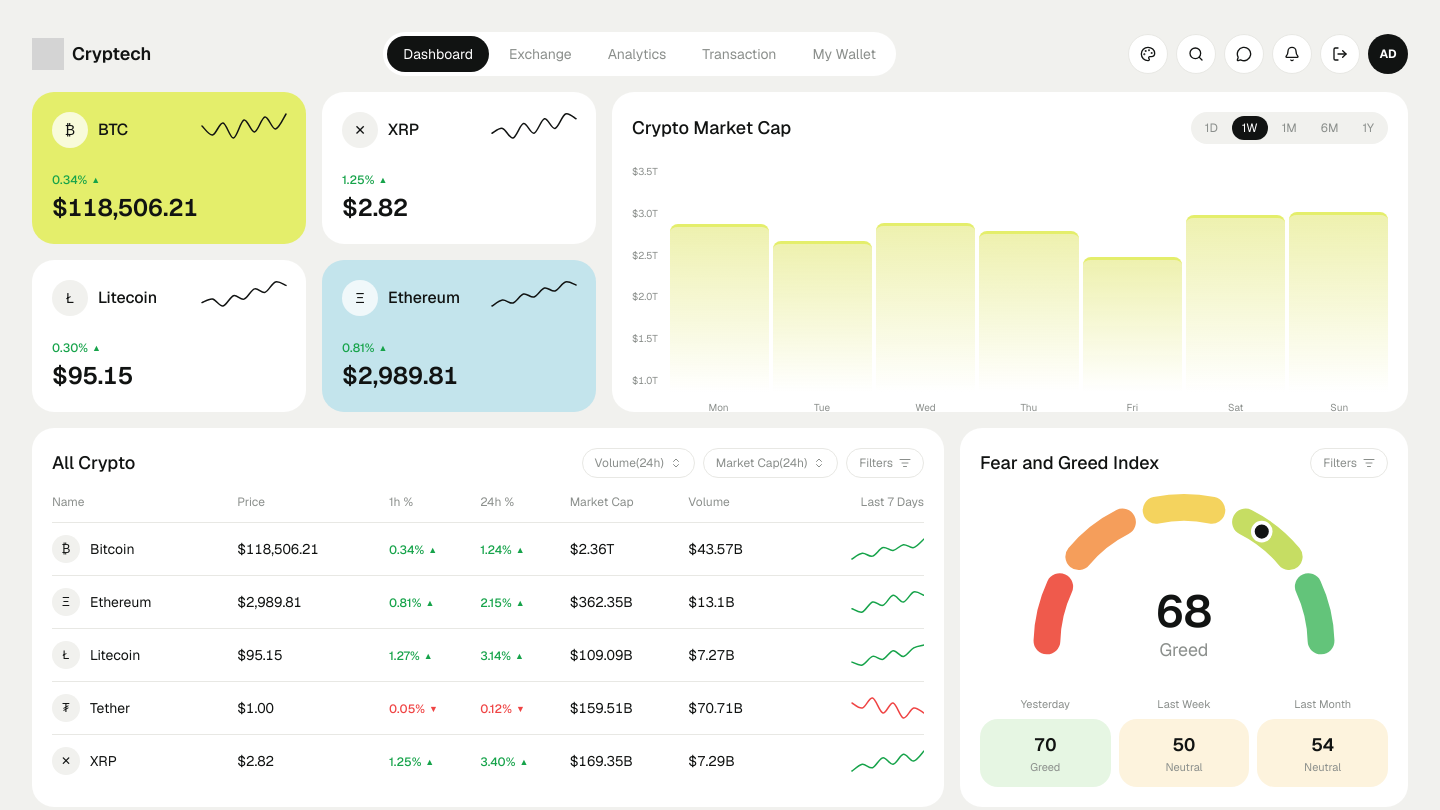
AdminDashboardDesign3 › draws the caller's default range and switches on click
expect the list item "Mon" is shown: met, box [708,401,729,414]
Step 1. Click the button "6M" → (1330, 128), box [1311,116,1348,140]
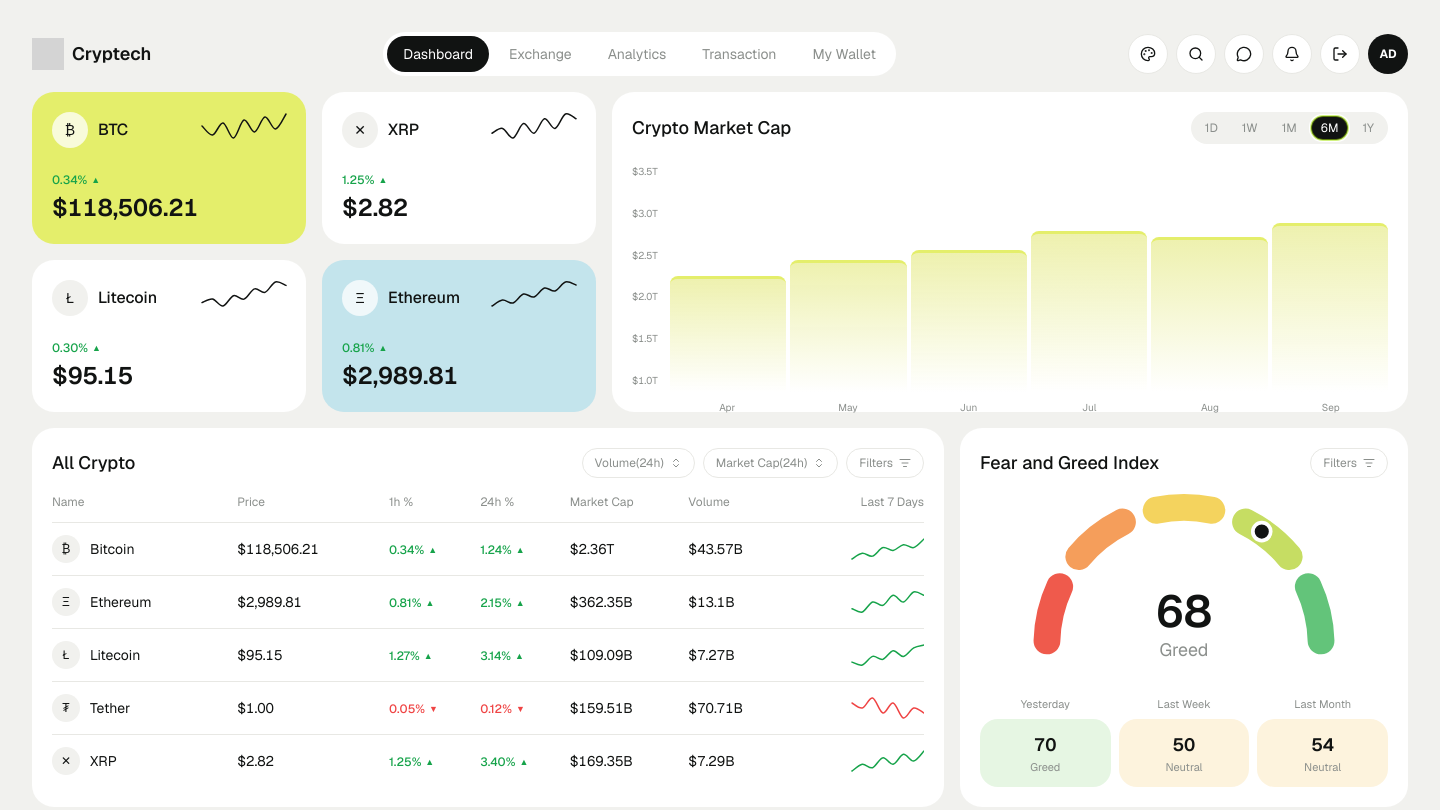
expect the list item "Apr" is shown: met, box [719,401,735,414]
